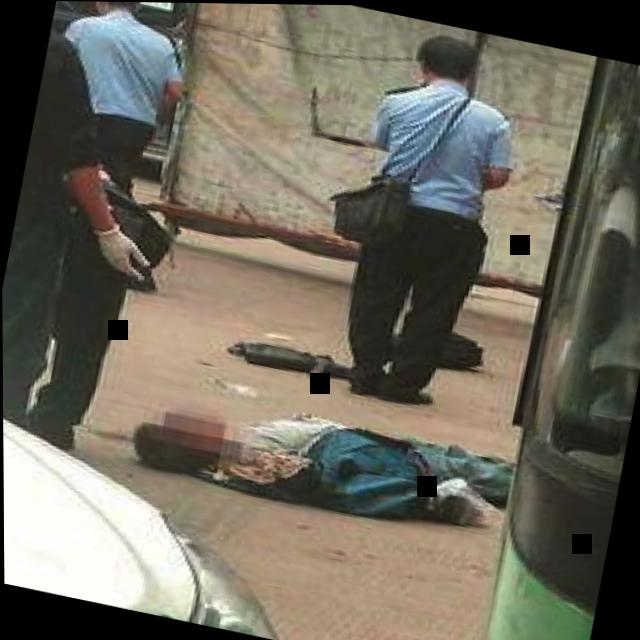Fall-Detected: (122, 358, 552, 557)
